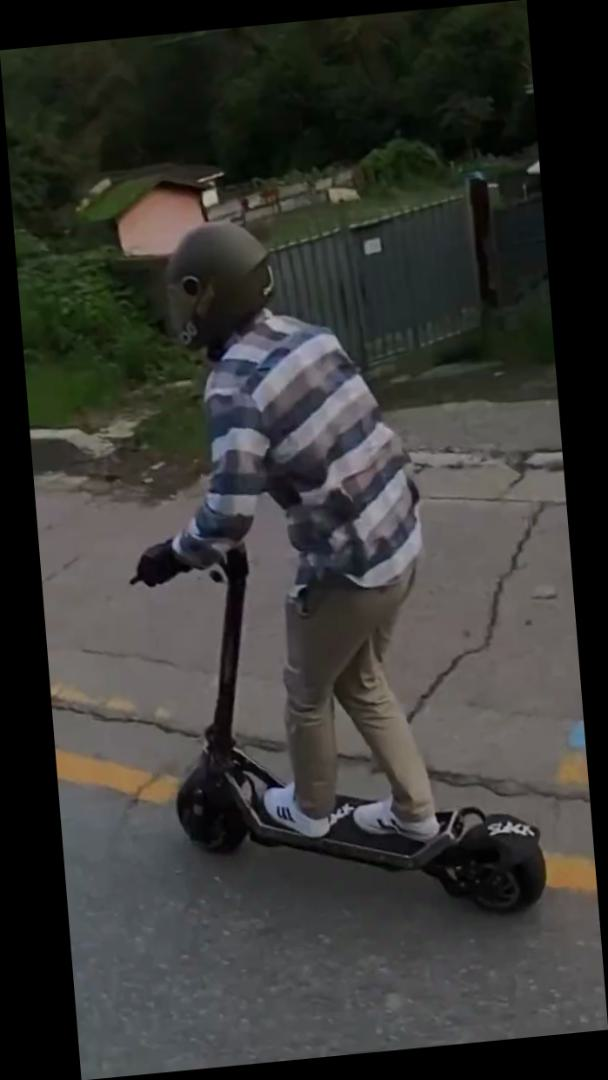helmet: (100, 192, 554, 948)
